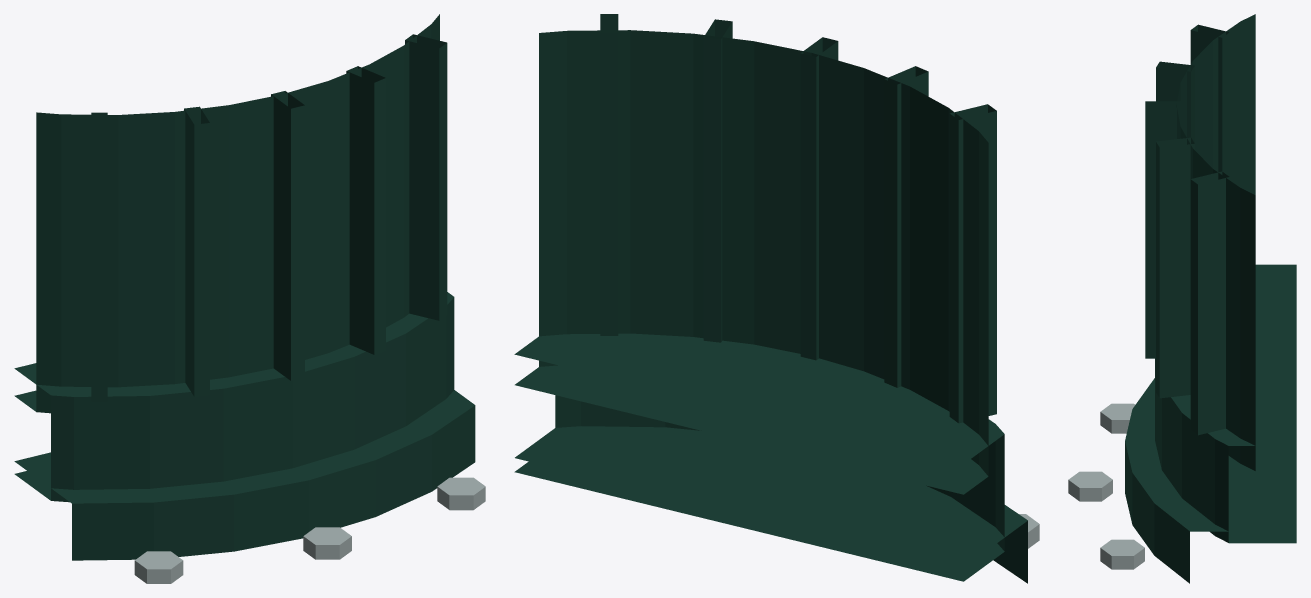
The model's file is cell_43.obj.
3 views of the same model, side by side, from view 1: azimuth 30°, elevation 25°; view 2: azimuth 150°, elevation 25°; view 3: azimuth 270°, elevation 25° (orthographic). The views are drawn at different scales.
Bounding box in the file's own units: 1 × 1 × 0.532.
